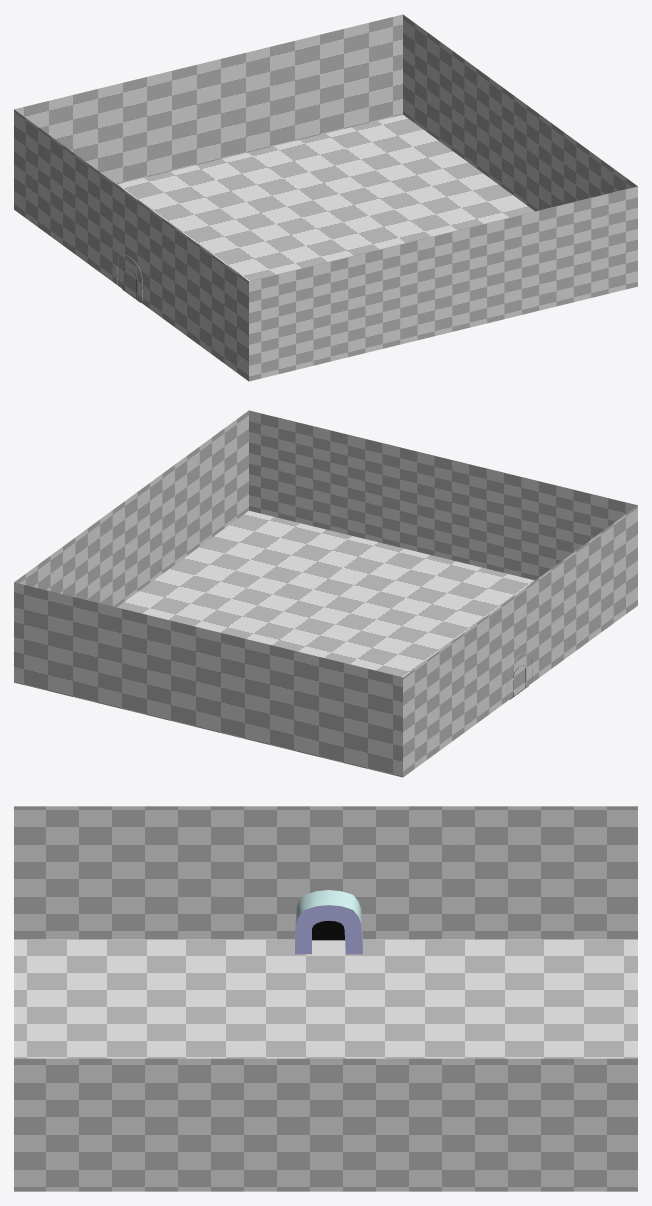
Rendered from loc1.obj.
The picture shows the model from 3 angles, top to bottom: view 1: azimuth 30°, elevation 25°; view 2: azimuth 150°, elevation 25°; view 3: azimuth 270°, elevation 25°; orthographic projection. The views are drawn at different scales.
Visible parts, largest first — view 1: pCube1; view 2: pCube1; view 3: pCube1, polySurface1.
Part boxes in pixels (box(x1,y1,x2,y2)): pCube1: box(14, 14, 637, 381); pCube1: box(14, 410, 637, 777); pCube1: box(14, 806, 637, 1191); polySurface1: box(295, 890, 362, 954).
Bounding box in the file's own units: 1248 × 311 × 1304.
4 materials, 4 textured.
